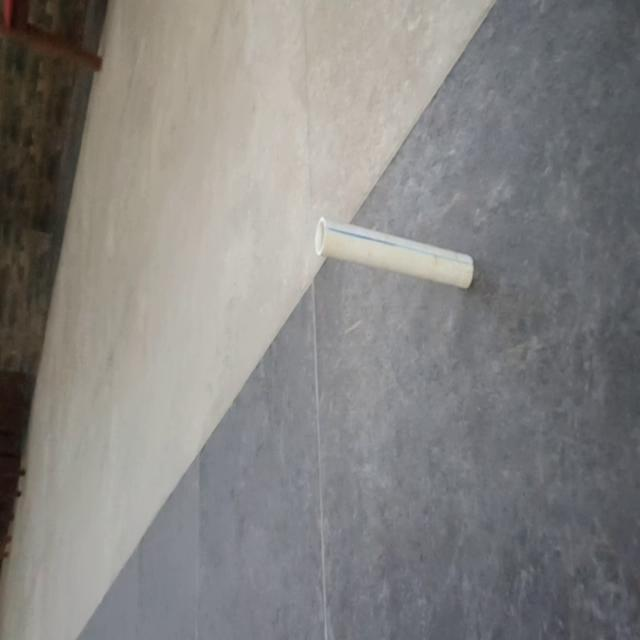Cube: (314, 214, 474, 292)
